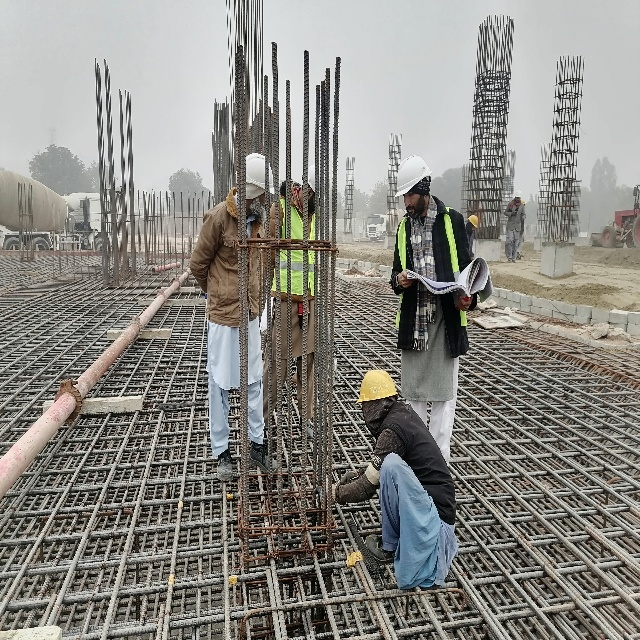Guantes: (314, 483, 336, 506), (340, 471, 358, 485)
Sin_guantes: (456, 291, 473, 311), (398, 268, 413, 289), (511, 211, 517, 216)
